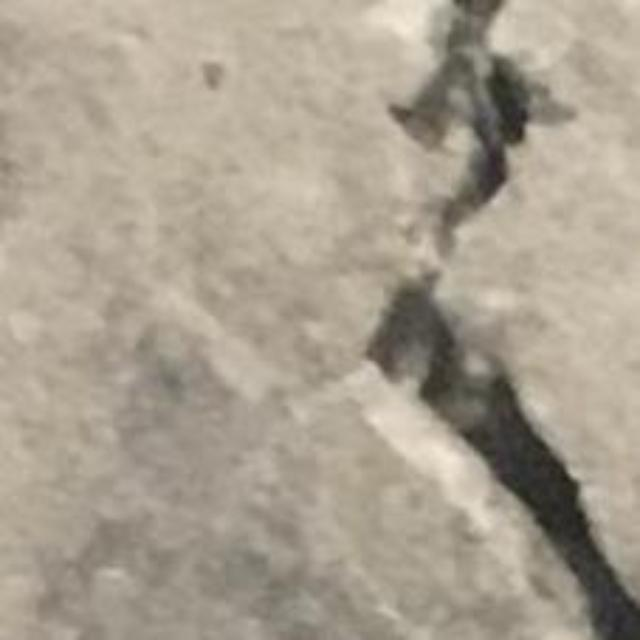crack: (367, 274, 639, 639), (367, 280, 639, 639), (390, 0, 569, 253)
